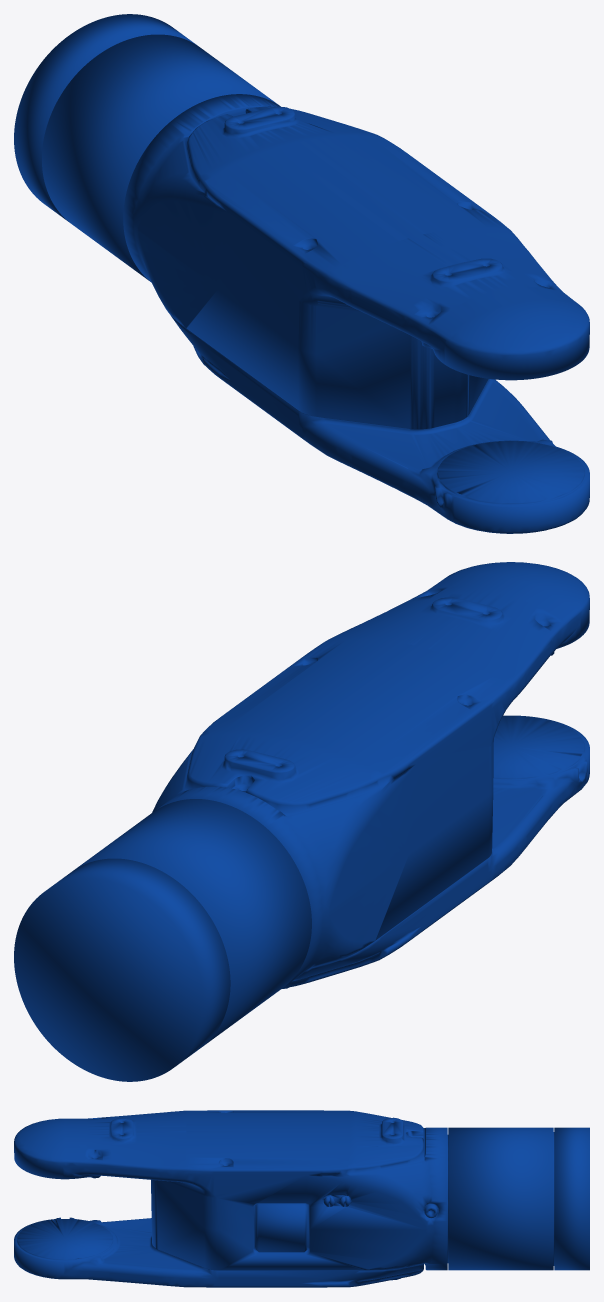
File: YaskawaGP7Link4.dae
The picture shows the model from 3 angles, top to bottom: view 1: azimuth 30°, elevation 25°; view 2: azimuth 150°, elevation 25°; view 3: azimuth 270°, elevation 25°; orthographic projection. The views are drawn at different scales.
Visible parts, largest first — view 1: YaskawaGP7Link4; view 2: YaskawaGP7Link4; view 3: YaskawaGP7Link4.
Boxes of the visible parts, x1=… form: YaskawaGP7Link4: x1=14, y1=14, x2=589, y2=533; YaskawaGP7Link4: x1=14, y1=562, x2=589, y2=1081; YaskawaGP7Link4: x1=14, y1=1110, x2=589, y2=1287.
Size of the model in its own units: 0.1036 by 0.4045 by 0.11.
